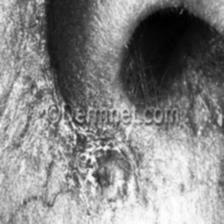Potentially Malignant Skin Tumors: (78, 140, 146, 210)
